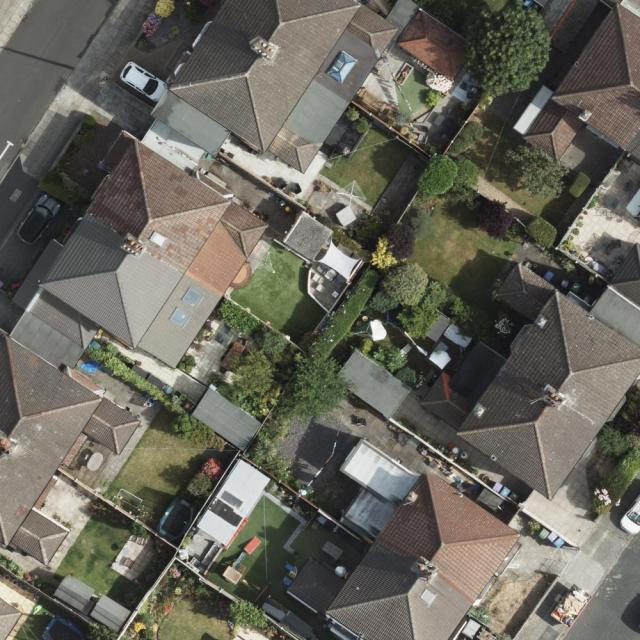roof: (0, 0, 401, 566), (415, 240, 640, 502), (284, 432, 523, 640), (519, 0, 640, 166), (394, 3, 482, 78), (0, 600, 23, 640)
skylight: (326, 52, 357, 84), (168, 307, 191, 331), (148, 230, 170, 249), (419, 587, 438, 608), (182, 287, 202, 304)
